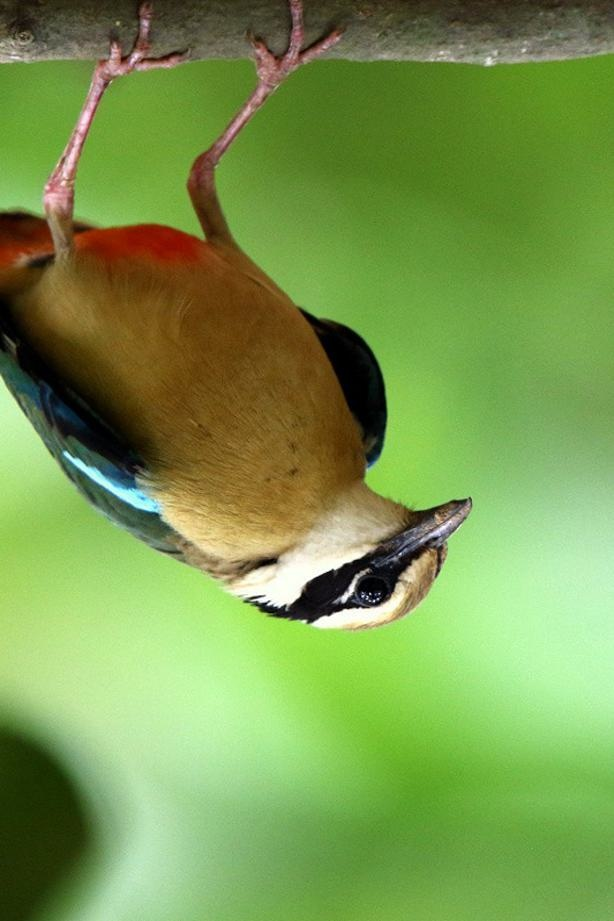pitta: (1, 28, 481, 654)
